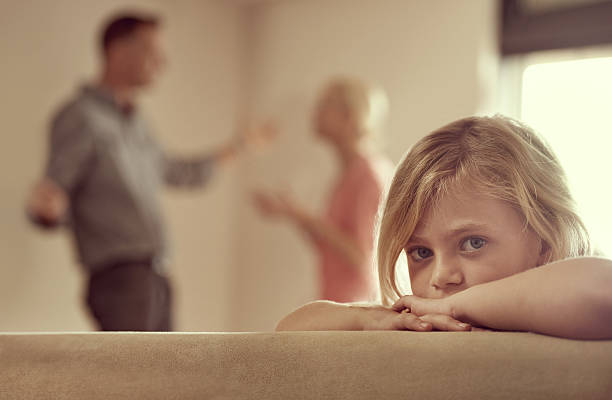without mask: (396, 158, 545, 311), (107, 12, 165, 94), (304, 69, 362, 151)
